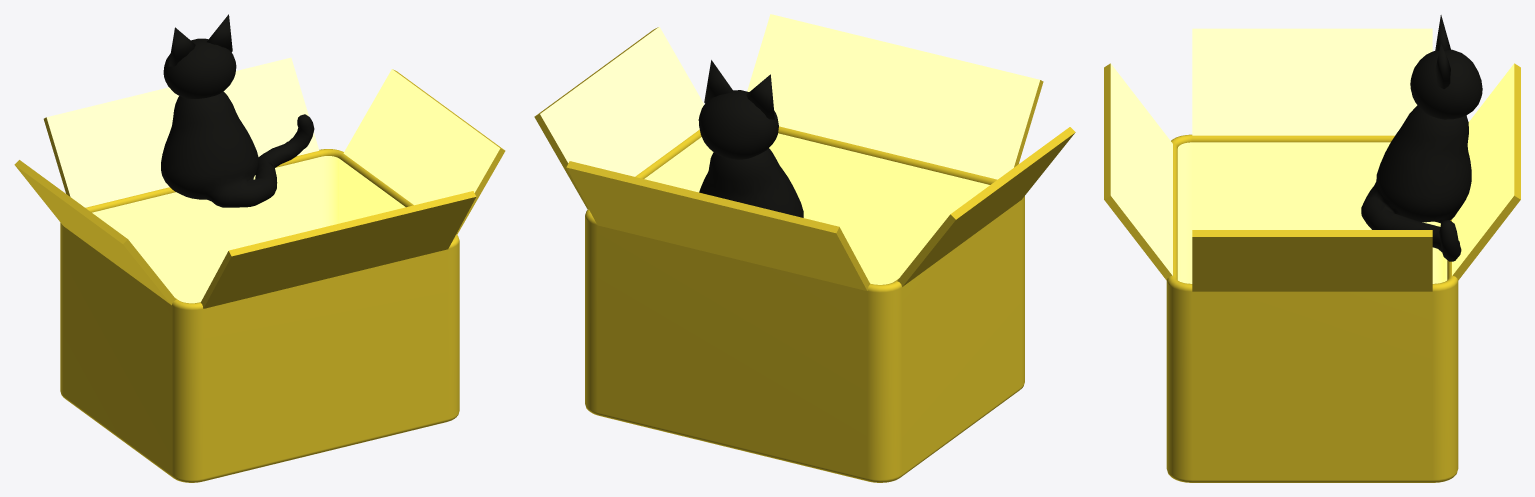
File: kotak-box.glb
3 views of the same model, side by side, from view 1: azimuth 30°, elevation 25°; view 2: azimuth 150°, elevation 25°; view 3: azimuth 270°, elevation 25° (orthographic). The views are drawn at different scales.
Parts seen in each view (by area): view 1: Box, FlapN, Kopi, FlapS, FlapE, FlapW; view 2: Box, FlapS, FlapN, FlapE, Kopi, FlapW; view 3: Box, FlapW, Kopi, FlapE, FlapS, FlapN.
Boxes of the visible parts, x1,y1,x2,y2 form: Box: [60, 149, 459, 482]; FlapN: [43, 57, 319, 207]; Kopi: [161, 14, 314, 207]; FlapS: [201, 191, 476, 308]; FlapE: [343, 69, 505, 234]; FlapW: [14, 160, 176, 305]; Box: [585, 126, 1024, 482]; FlapS: [747, 14, 1043, 179]; FlapN: [566, 161, 869, 290]; FlapE: [534, 26, 704, 209]; Kopi: [698, 60, 803, 217]; FlapW: [897, 127, 1075, 286]; Box: [1166, 134, 1458, 482]; FlapW: [1192, 28, 1432, 135]; Kopi: [1361, 15, 1482, 261]; FlapE: [1192, 230, 1432, 291]; FlapS: [1104, 63, 1172, 280]; FlapN: [1452, 63, 1520, 280].
Bounding box in the file's own units: 1.34 × 1.15 × 1.14.
